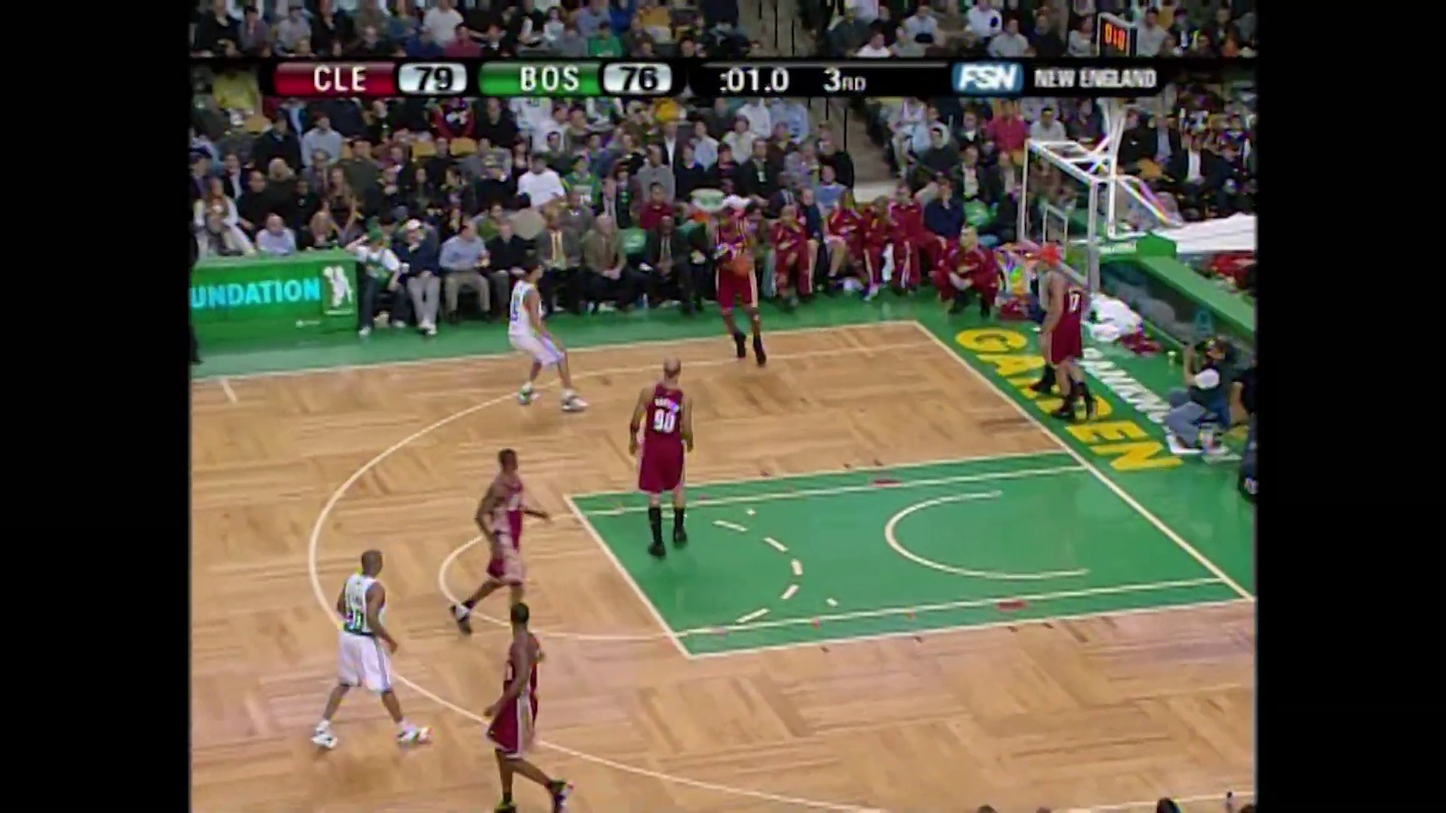basket_hoop: (938, 136, 1123, 297)
